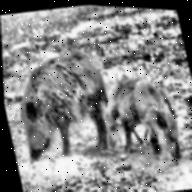boar: (7, 44, 120, 168), (94, 71, 188, 177)
